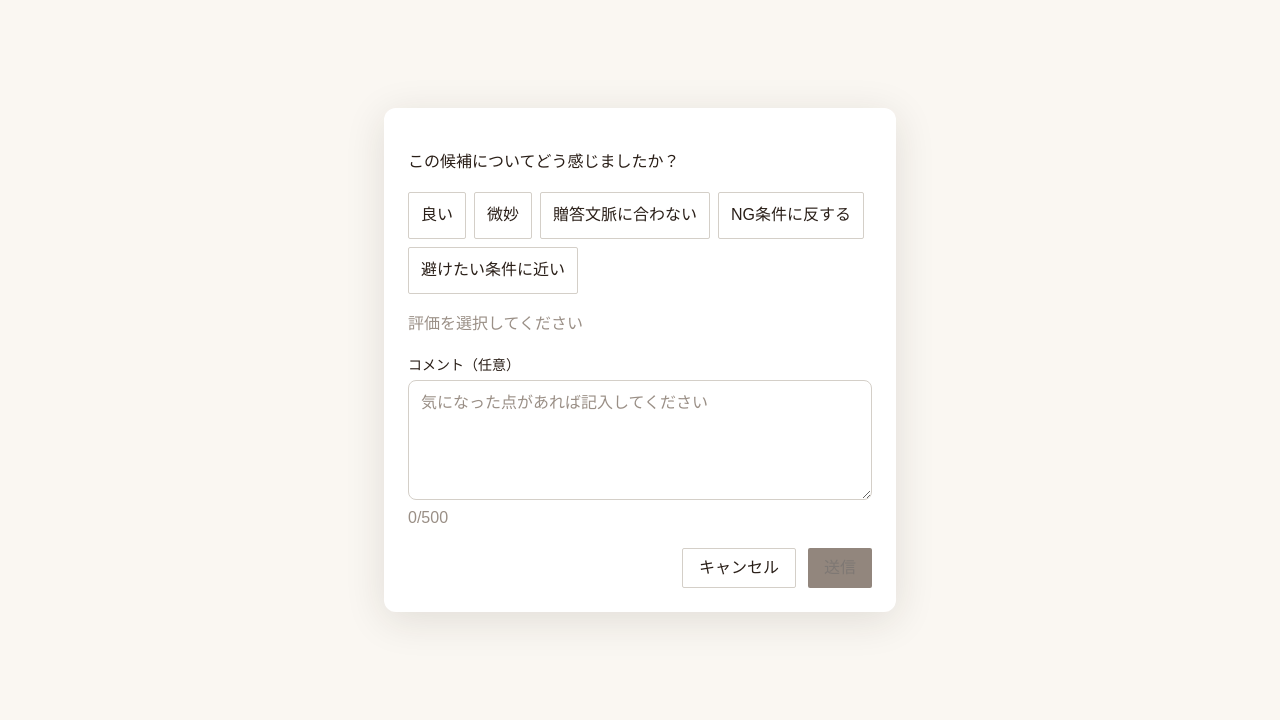
FeedbackInputModal › shows retry on network failure
This screenshot has width=1280, height=720.
Click the button "微妙" at [503, 216], box [474,192,532,239]
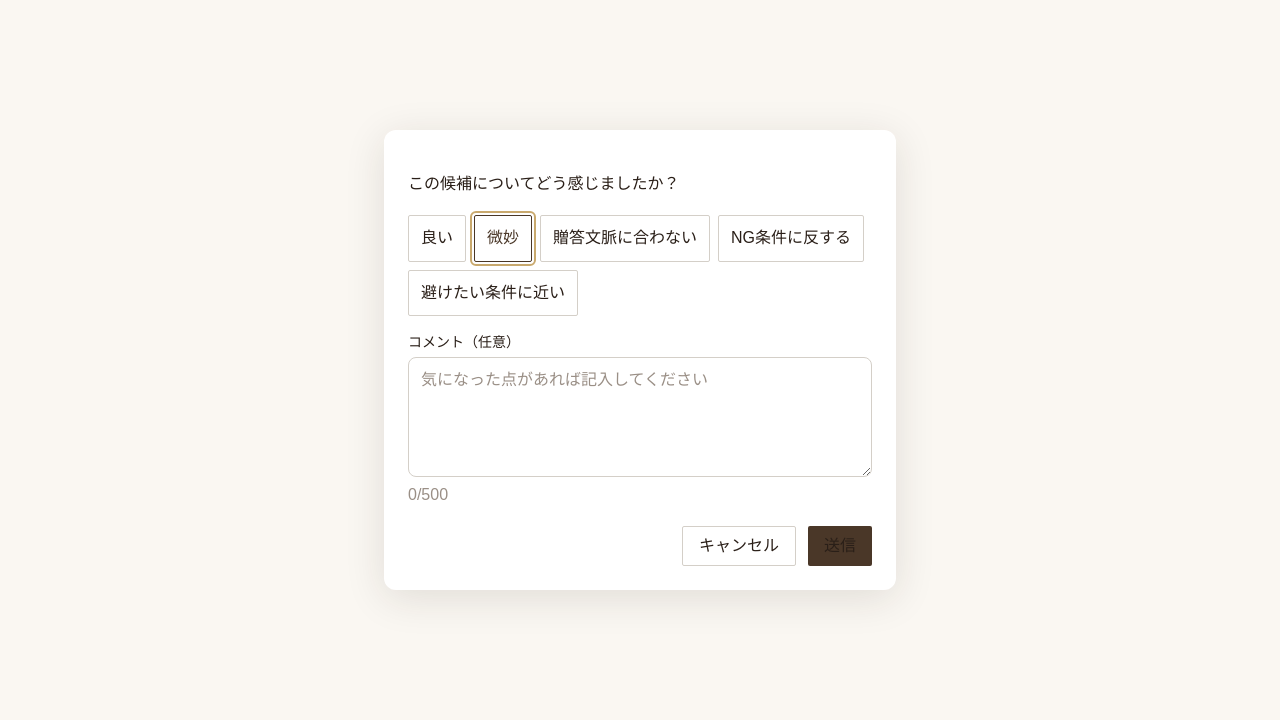
Click the button "送信" at [840, 546], box [808,526,872,566]
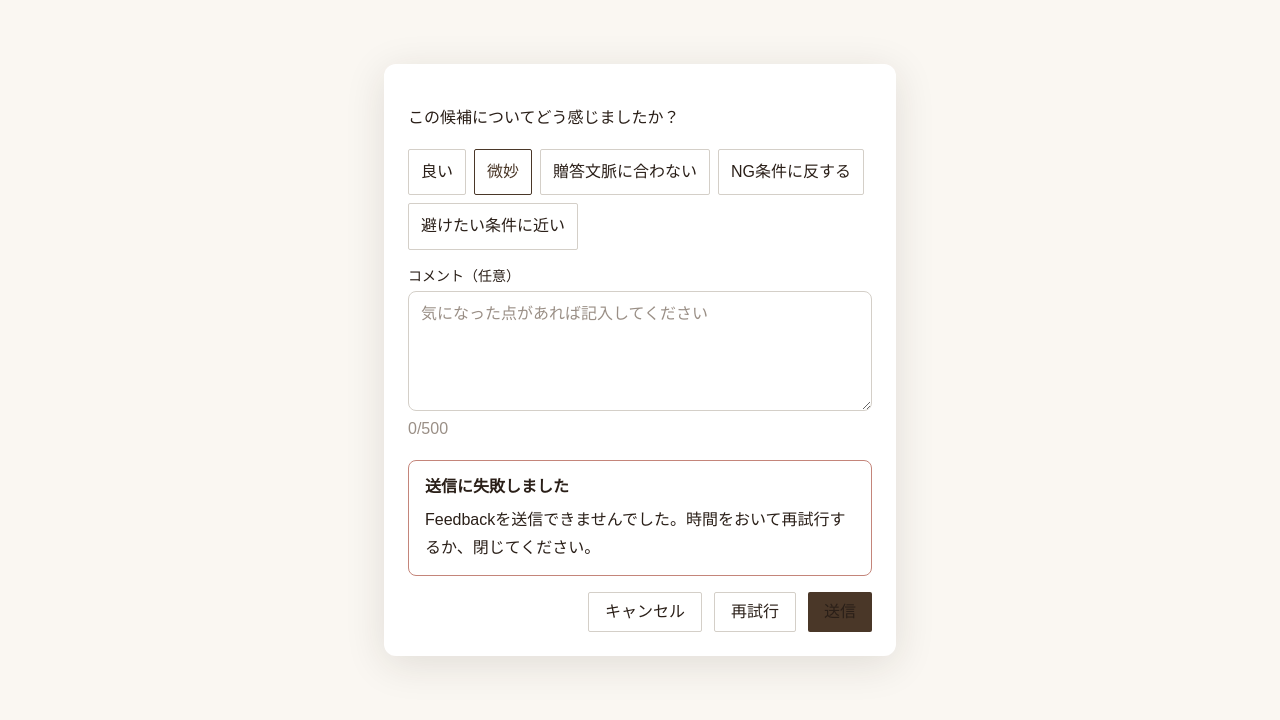
Now the text "Feedbackを送信できませんでした。時間をおいて再試行するか、閉じてください。" is shown, box [425,506,855,563]
Now the button "再試行" is shown, box [714,592,796,632]
